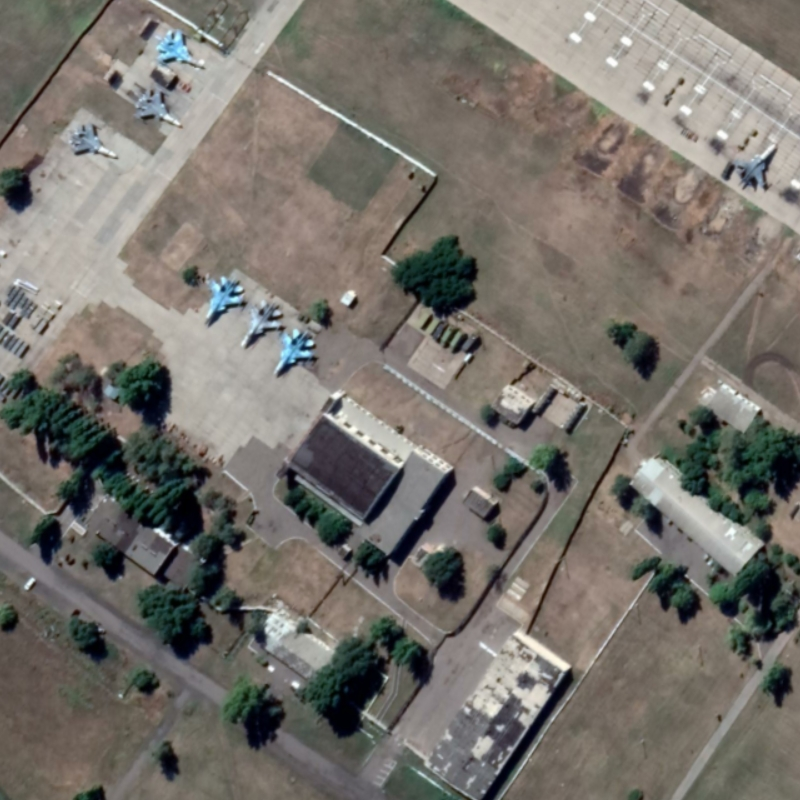A19: (199, 272, 248, 328), (730, 141, 780, 194), (270, 328, 321, 378), (238, 298, 286, 351), (150, 27, 207, 71), (64, 118, 118, 163), (130, 86, 183, 130)
